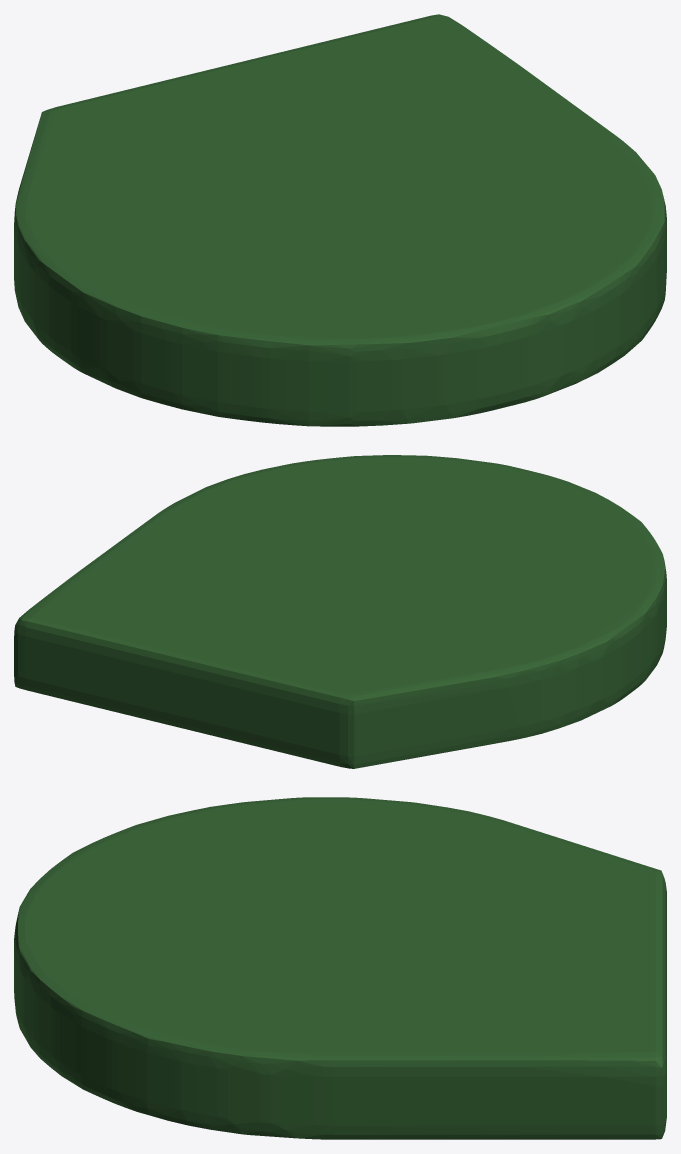
The model's file is left_hip_pitch_link_part_19.obj.
3 renders of one model, top to bottom at view 1: azimuth 30°, elevation 25°; view 2: azimuth 150°, elevation 25°; view 3: azimuth 270°, elevation 25°, orthographic. The views are drawn at different scales.
Size of the model in its own units: 0.1242 by 0.0179 by 0.129.
